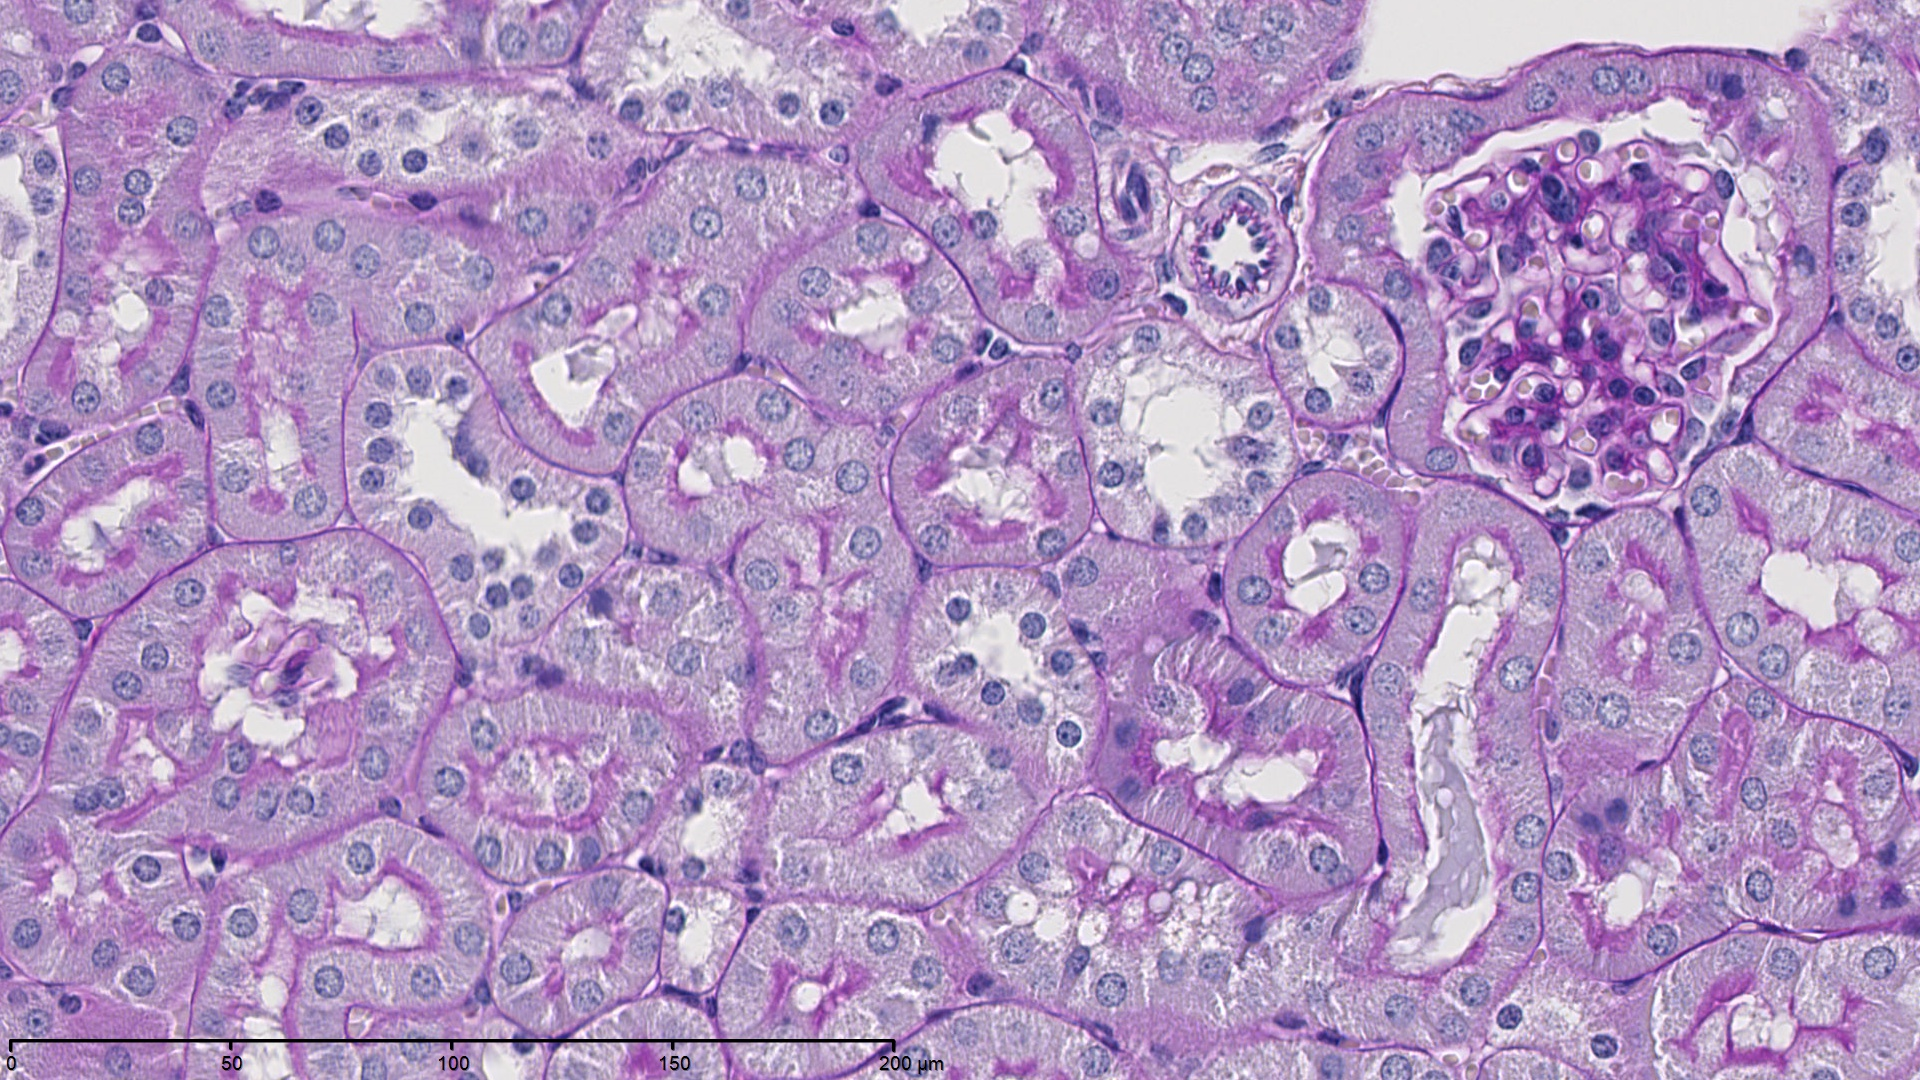Glomeruli: (1410, 108, 1803, 498)
